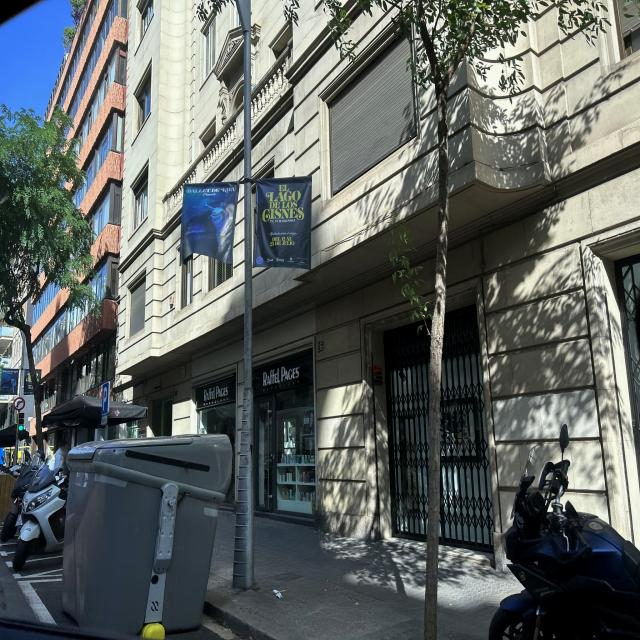bike: (2, 441, 70, 574)
